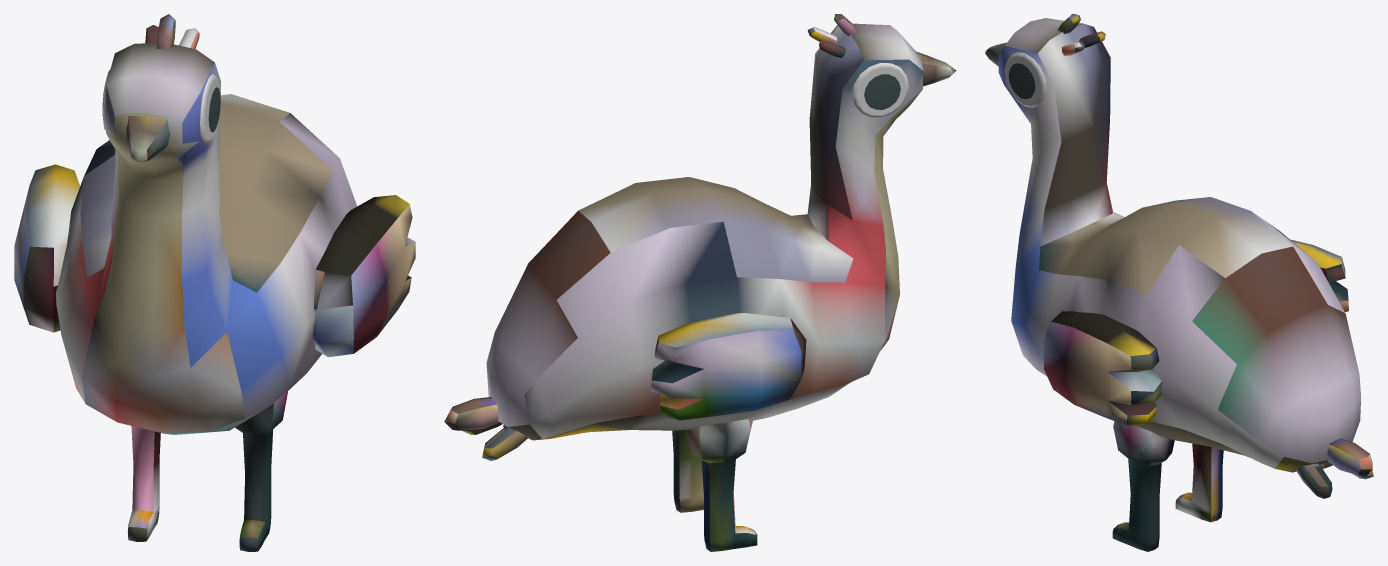
Rendered from Emu.glb.
3 renders of one model, left to right at view 1: azimuth 30°, elevation 25°; view 2: azimuth 150°, elevation 25°; view 3: azimuth 270°, elevation 25°, orthographic. The views are drawn at different scales.
Parts seen in each view (by area): view 1: 46; view 2: 46; view 3: 46.
Boxes of the visible parts, x1=… form: 46: x1=14, y1=14, x2=415, y2=551; 46: x1=444, y1=14, x2=956, y2=551; 46: x1=985, y1=14, x2=1373, y2=551.
Bounding box in the file's own units: 0.817 × 1.21 × 0.8936.
